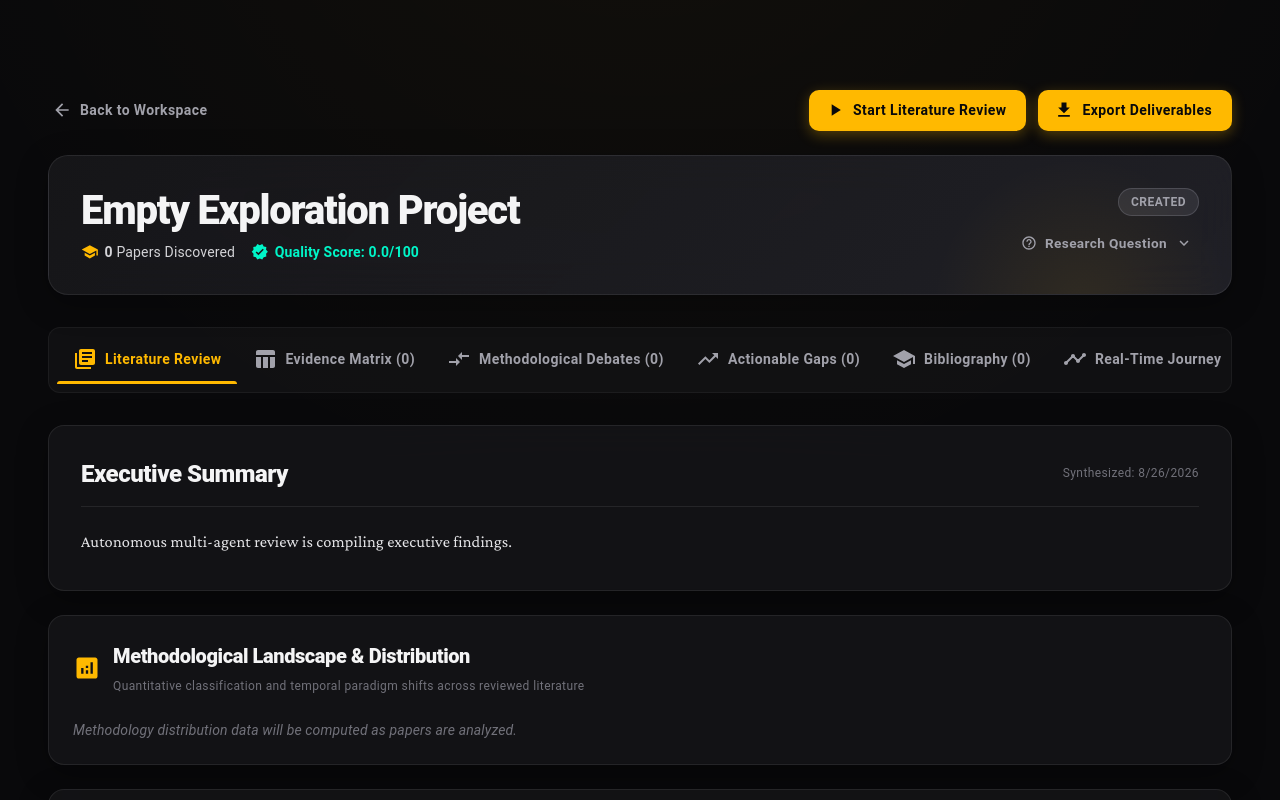
ProjectDetailsPage Empirical Challenger Test Suite › 1. Empty State Verification across all 6 Tabs › Tab 3 (Actionable Gaps): displays empty gaps message
Expected: the heading "Empty Exploration Project" is shown, [81,186,520,234]
What coordinates should you click on to do the following:
click the tab "Actionable Gaps (0)"
I would click on:
 (778, 360)
Its box is [680,336,876,384].
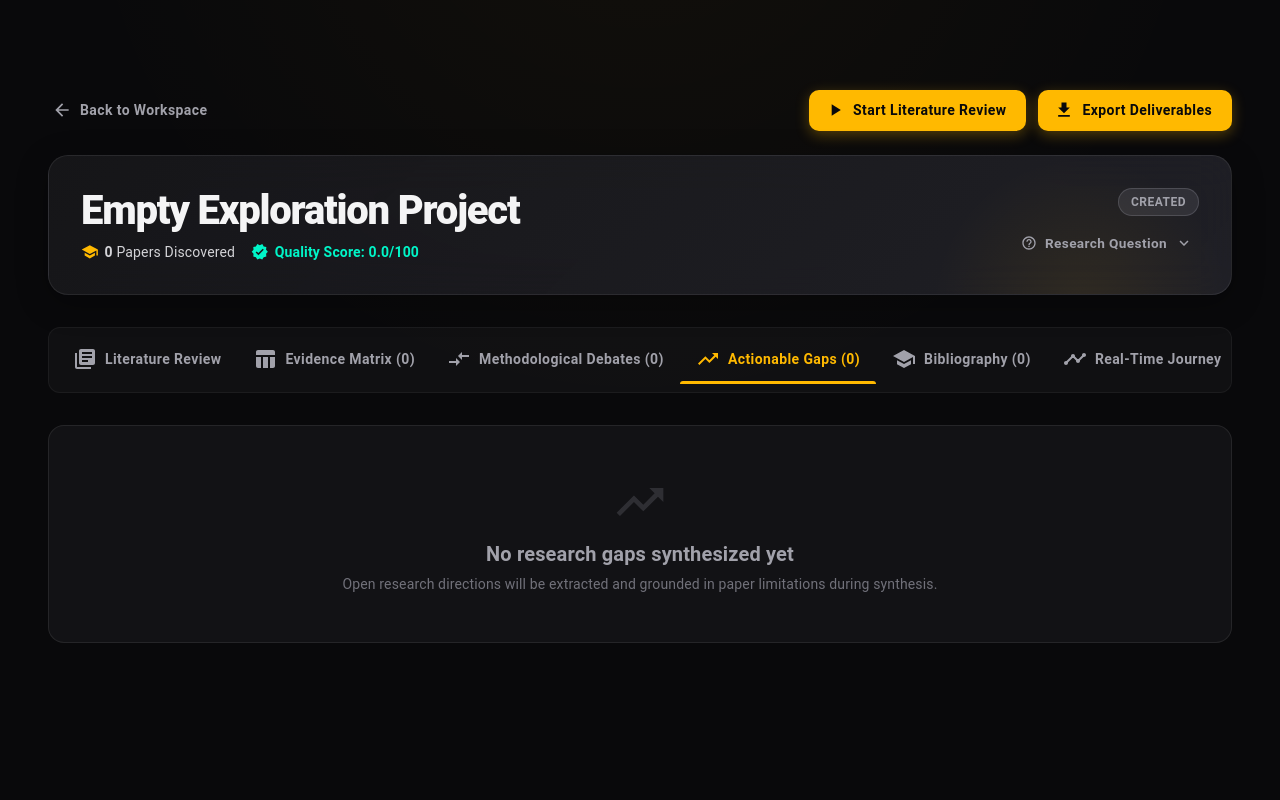
Now the heading "No research gaps synthesized yet" is shown, box [486,542,794,566]
Now the text "Open research directions will be extracted and grounded in paper limitations during synthesis." is shown, box [342,576,938,592]
